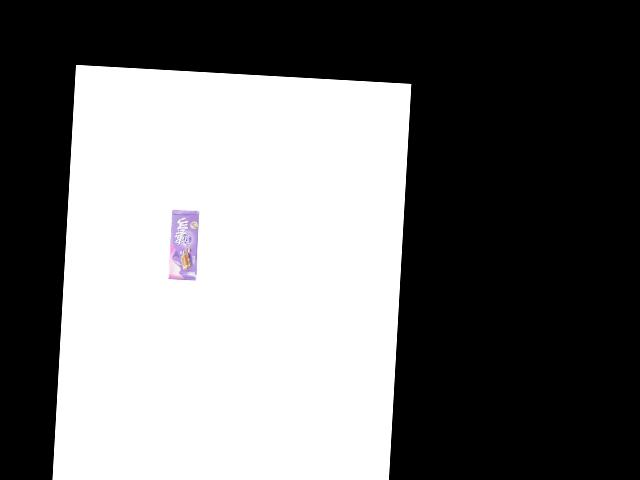chocolate: (167, 209, 201, 280)
